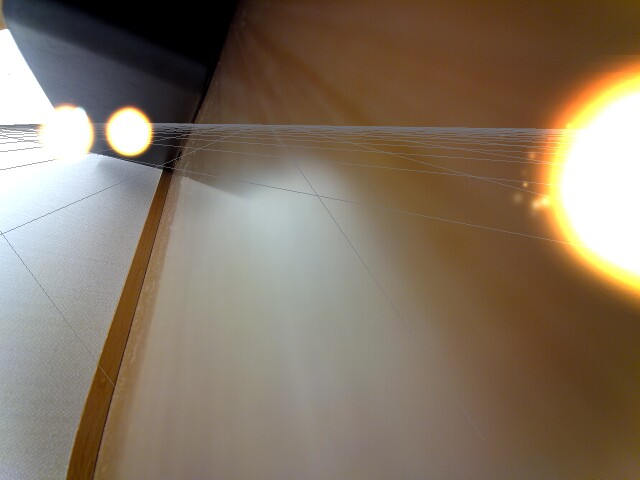firebig: (518, 35, 640, 325)
